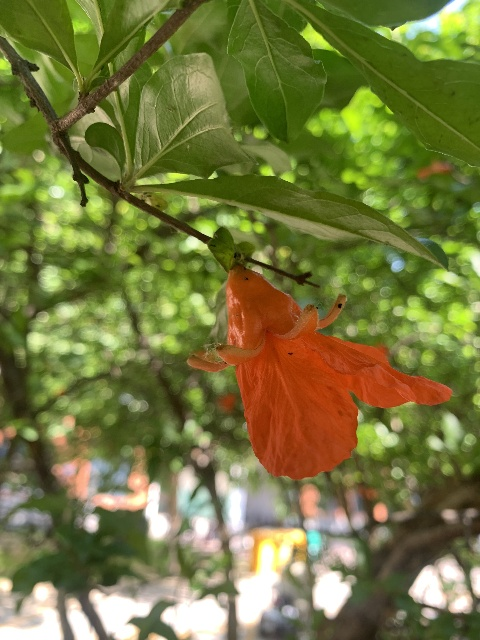flower: (192, 264, 455, 481)
